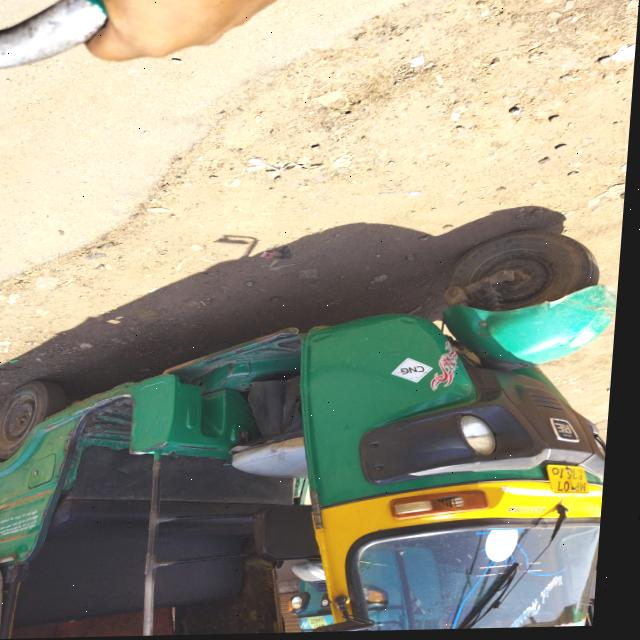plate: (551, 467, 601, 501)
